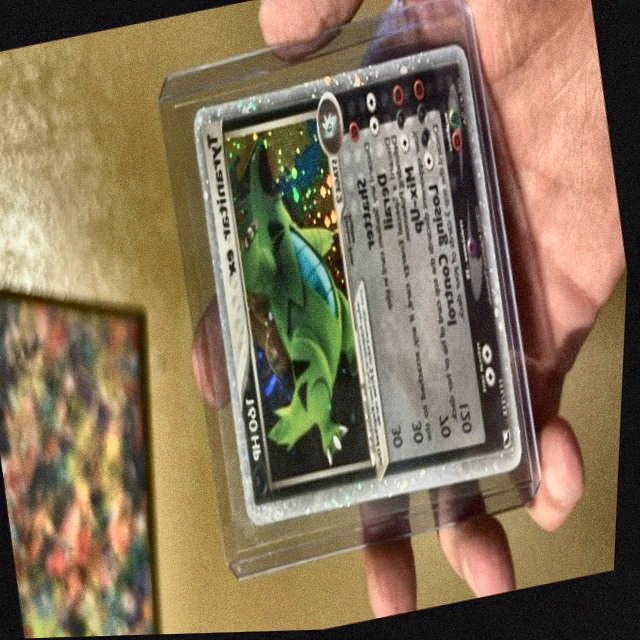card: (192, 43, 526, 530)
